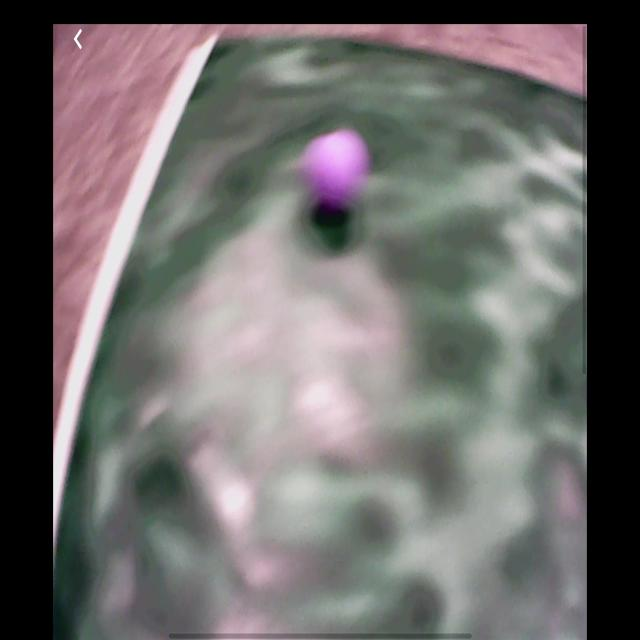ball: (314, 128, 369, 219)
